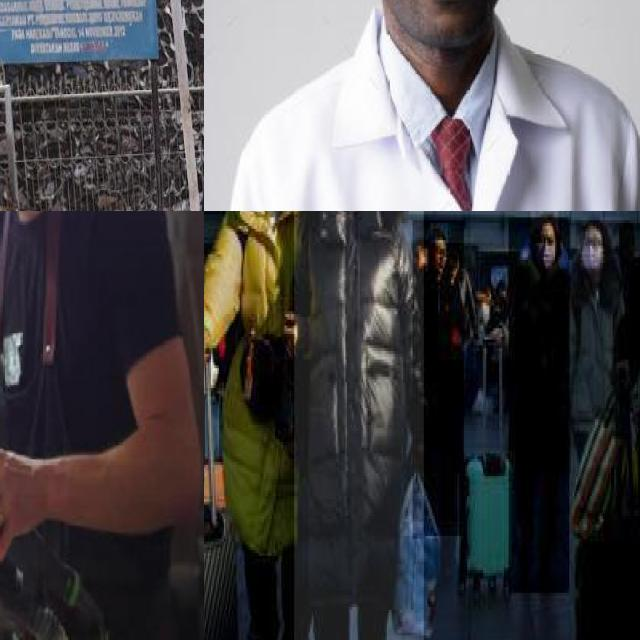face_mask: (533, 228, 555, 268), (581, 232, 603, 272)
face_nomask: (429, 243, 446, 274)
hand_noglove: (0, 432, 50, 561)
head_nohelmet: (531, 211, 560, 237), (430, 223, 450, 249), (580, 214, 604, 234)
person: (0, 211, 203, 640), (241, 0, 640, 211), (294, 211, 425, 640), (204, 211, 308, 640), (509, 217, 571, 596), (412, 220, 466, 539), (571, 218, 621, 470)
